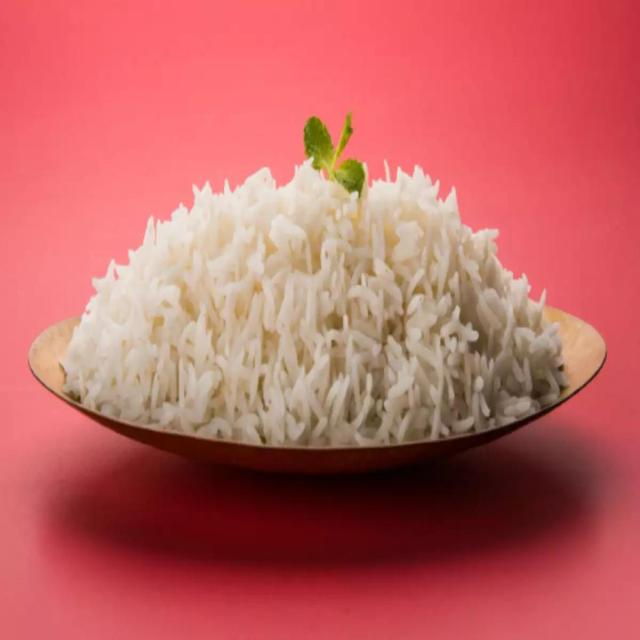rice: (67, 166, 572, 444)
